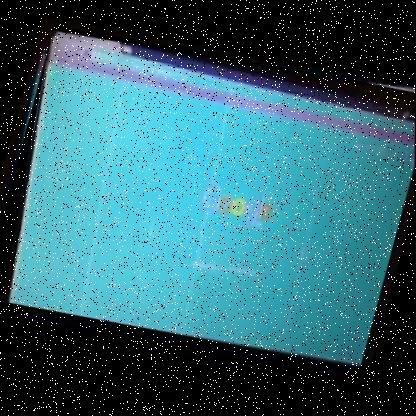fade: (0, 2, 415, 399)
